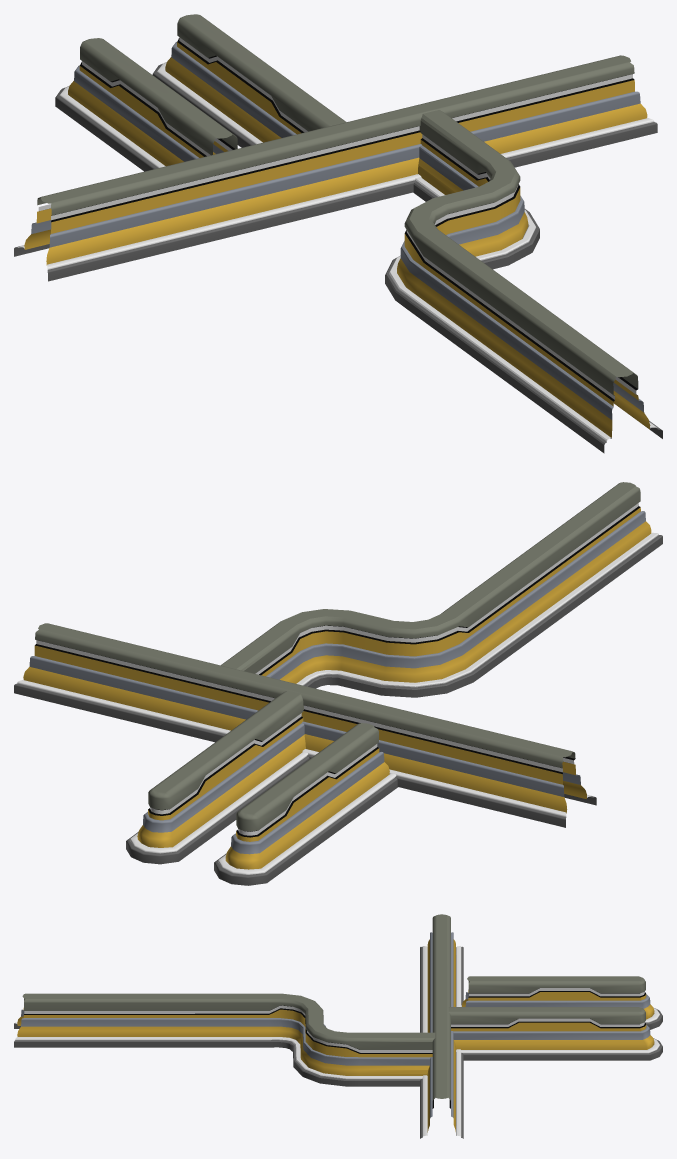
File: Level13_Small_walls.fbx
The picture shows the model from 3 angles, top to bottom: view 1: azimuth 30°, elevation 25°; view 2: azimuth 150°, elevation 25°; view 3: azimuth 270°, elevation 25°; orthographic projection. The views are drawn at different scales.
Visible parts, largest first — view 1: Small_wallv2_8, Small_wall_L14, Small_wallv1_11, Small_wallv1_7; view 2: Small_wallv2_8, Small_wall_L14, Small_wallv1_7, Small_wallv1_11; view 3: Small_wall_L14, Small_wallv1_7, Small_wallv2_8, Small_wallv1_11.
Boxes of the visible parts, left/top/right/bottom form: Small_wallv2_8: left=14, top=55, right=657, bottom=281; Small_wall_L14: left=385, top=110, right=662, bottom=453; Small_wallv1_11: left=55, top=38, right=237, bottom=171; Small_wallv1_7: left=152, top=14, right=346, bottom=147; Small_wallv2_8: left=14, top=623, right=596, bottom=827; Small_wall_L14: left=221, top=482, right=662, bottom=697; Small_wallv1_7: left=126, top=691, right=309, bottom=864; Small_wallv1_11: left=214, top=723, right=397, bottom=885; Small_wall_L14: left=14, top=993, right=435, bottom=1086; Small_wallv1_7: left=448, top=1007, right=662, bottom=1060; Small_wallv2_8: left=420, top=914, right=463, bottom=1138; Small_wallv1_11: left=461, top=976, right=662, bottom=1029.
Size of the model in its own units: 358 by 37.46 by 512.
